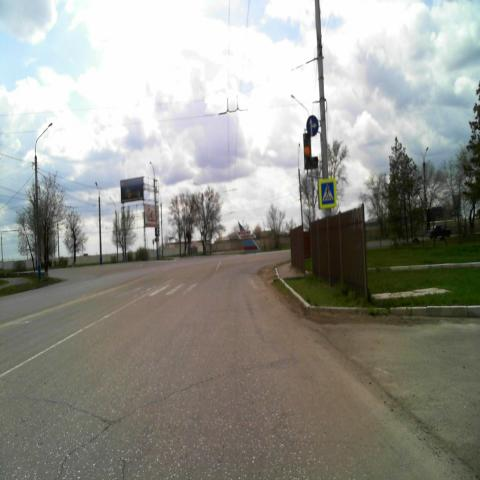4_1_4: (306, 115, 318, 137)
